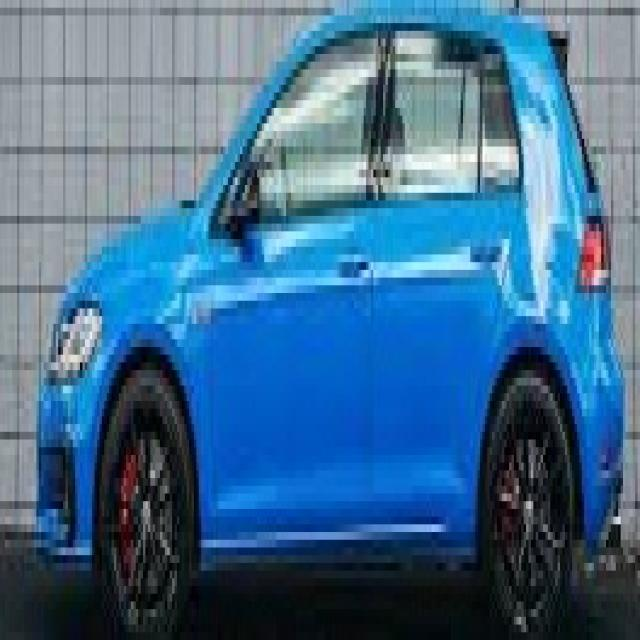blue: (32, 2, 626, 617)
